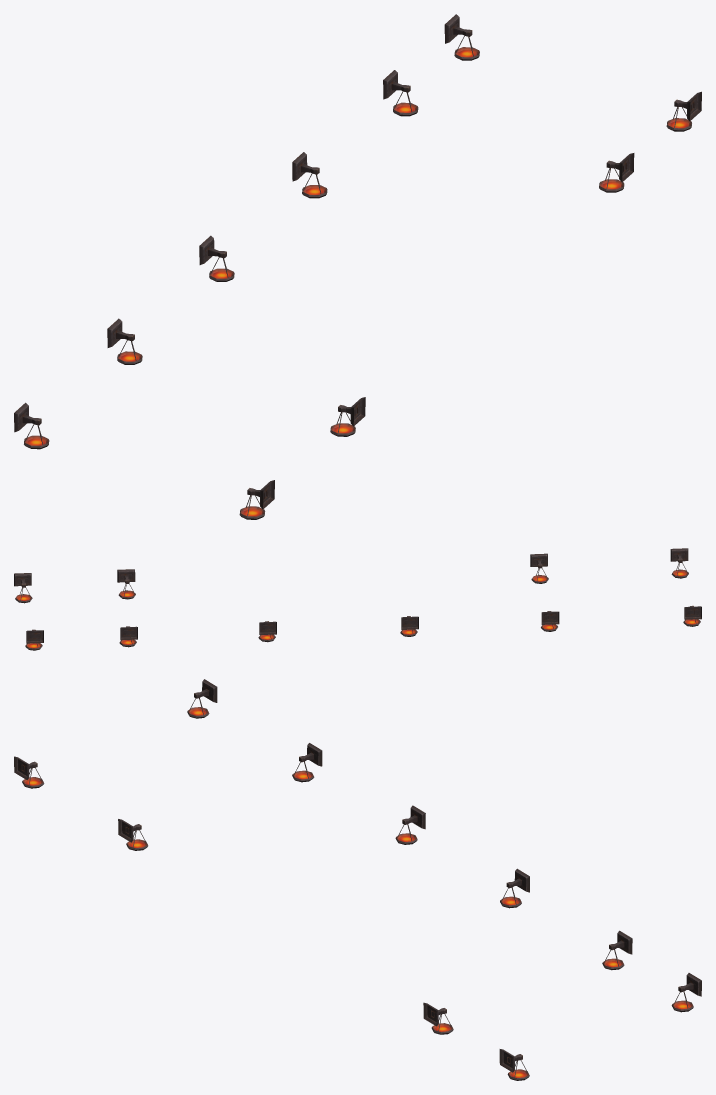
Rendered from wujian16.fbx.
The picture shows the model from 3 angles, top to bottom: view 1: azimuth 30°, elevation 25°; view 2: azimuth 150°, elevation 25°; view 3: azimuth 270°, elevation 25°; orthographic projection. The views are drawn at different scales.
Parts seen in each view (by area): view 1: wujian16; view 2: wujian16; view 3: wujian16.
Boxes of the visible parts, bbox=[...] form: wujian16: bbox=[14, 14, 701, 519]; wujian16: bbox=[14, 548, 701, 650]; wujian16: bbox=[14, 679, 701, 1080].
Size of the model in its own units: 4178 by 275 by 3419.
Materials: 1 (1 with a texture image).
